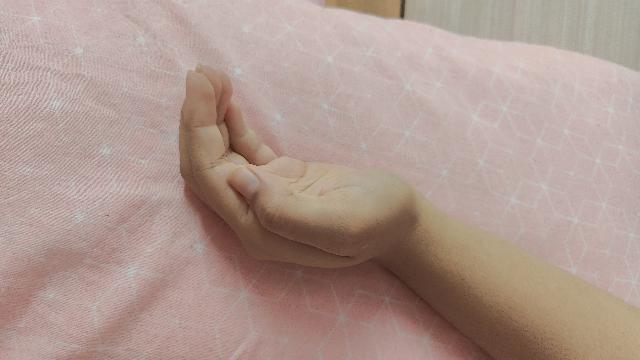sarpsheesh: (178, 66, 640, 360)
